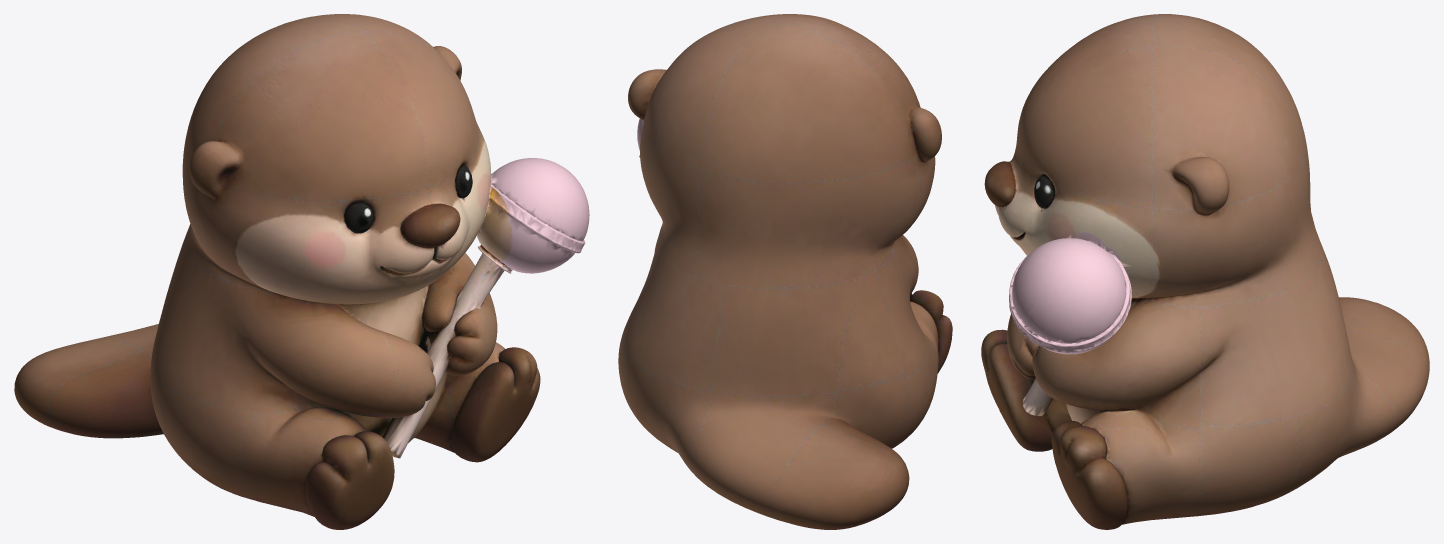
File: model-mobile-v005.glb
The picture shows the model from 3 angles, left to right: view 1: azimuth 30°, elevation 25°; view 2: azimuth 150°, elevation 25°; view 3: azimuth 270°, elevation 25°; orthographic projection. The views are drawn at different scales.
Visible parts, largest first — view 1: tmproh0n99cobj; view 2: tmproh0n99cobj; view 3: tmproh0n99cobj.
Part boxes in pixels (box(x1,y1,x2,y2)): tmproh0n99cobj: box(14, 14, 589, 529); tmproh0n99cobj: box(618, 14, 952, 529); tmproh0n99cobj: box(981, 14, 1429, 529).
Bounding box in the file's own units: 0.9992 × 0.9998 × 0.9186.
2 materials, 1 textured.
